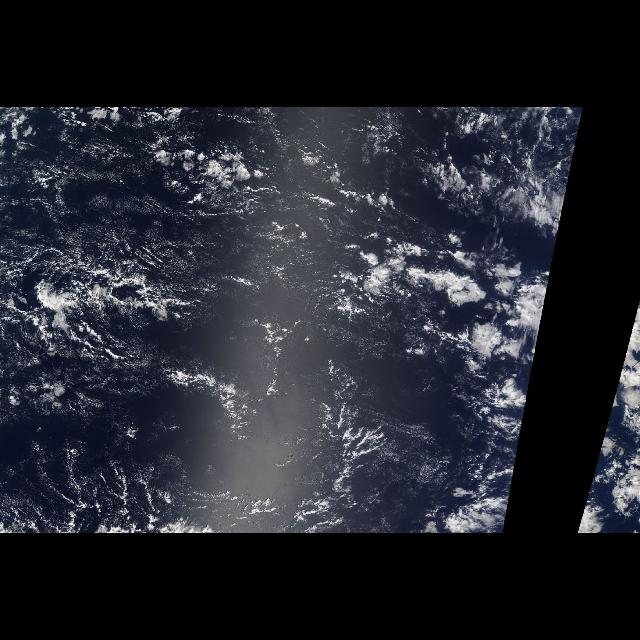Gravel: (0, 108, 292, 218), (1, 240, 206, 372), (8, 426, 230, 534), (298, 354, 408, 532)
Sugar: (1, 130, 207, 268)
